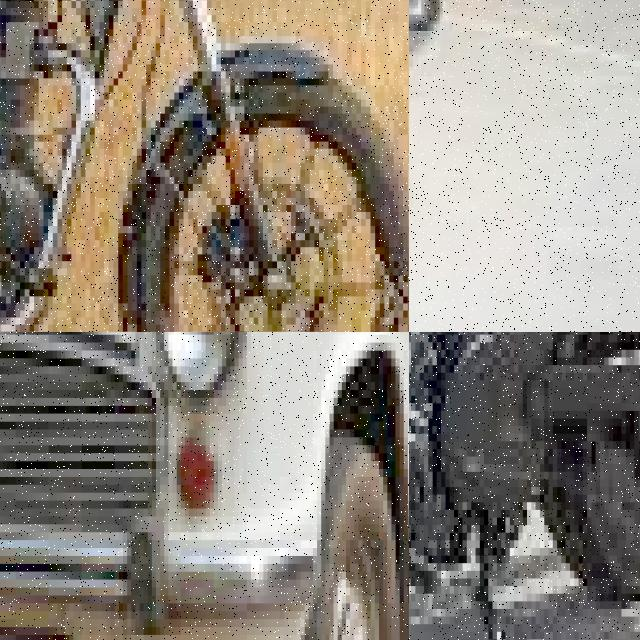bike: (0, 0, 409, 332), (409, 332, 640, 640)
car: (0, 332, 409, 640), (409, 0, 464, 279)
